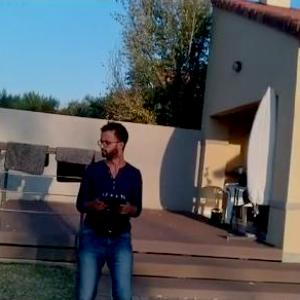follow: (69, 117, 146, 299)
